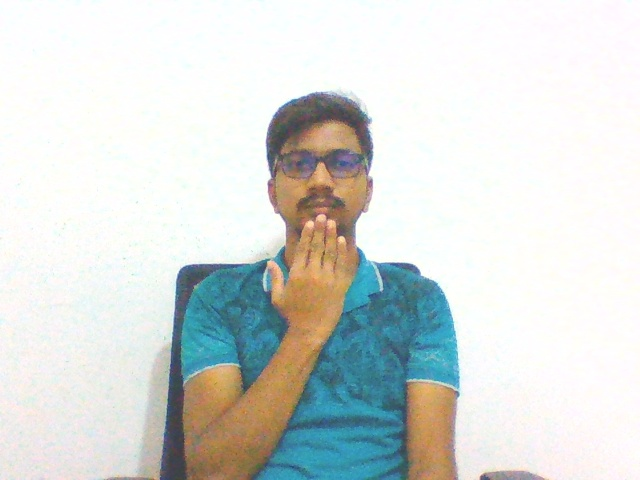mango: (264, 211, 360, 351)
